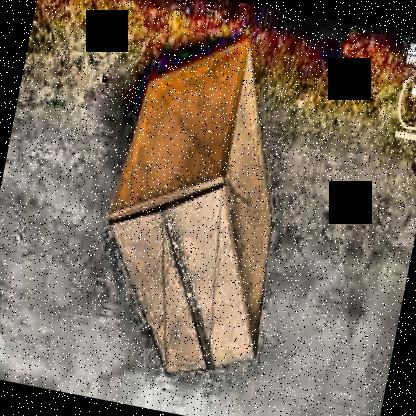no defect parcel: (75, 13, 323, 399)
